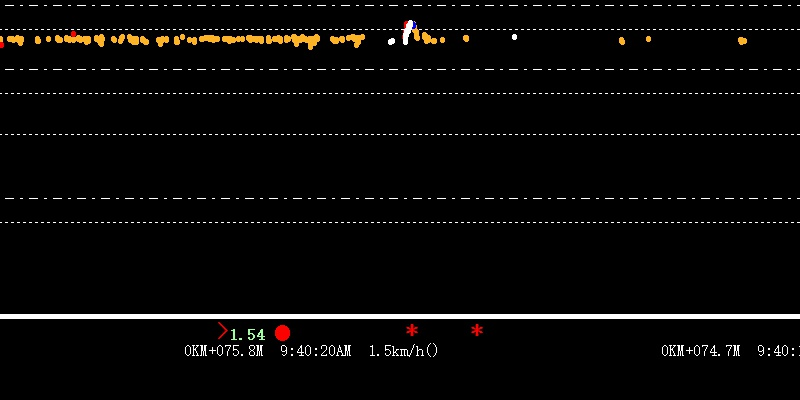circle: (273, 322, 292, 344)
face_2: (399, 18, 420, 44)
star: (468, 321, 486, 338), (402, 323, 419, 336)
